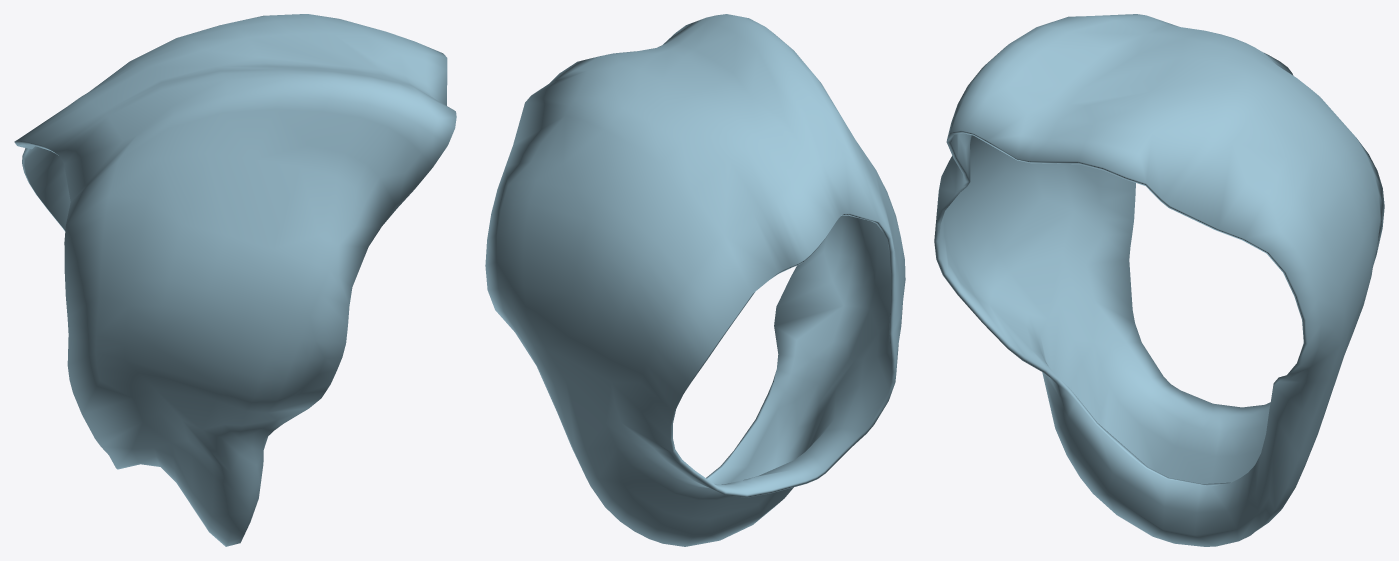
The model's file is articulacoes-articular-capsule-of-glenohumeral-joint-l.glb.
3 renders of one model, left to right at view 1: azimuth 30°, elevation 25°; view 2: azimuth 150°, elevation 25°; view 3: azimuth 270°, elevation 25°, orthographic. The views are drawn at different scales.
Parts seen in each view (by area): view 1: Articular capsule of glenohumeral joint.l; view 2: Articular capsule of glenohumeral joint.l; view 3: Articular capsule of glenohumeral joint.l.
Part boxes in pixels (<box>): Articular capsule of glenohumeral joint.l: <box>14,14,456,546</box>; Articular capsule of glenohumeral joint.l: <box>485,14,905,546</box>; Articular capsule of glenohumeral joint.l: <box>934,14,1384,546</box>.
Size of the model in its own units: 0.0472 by 0.0583 by 0.0467.
